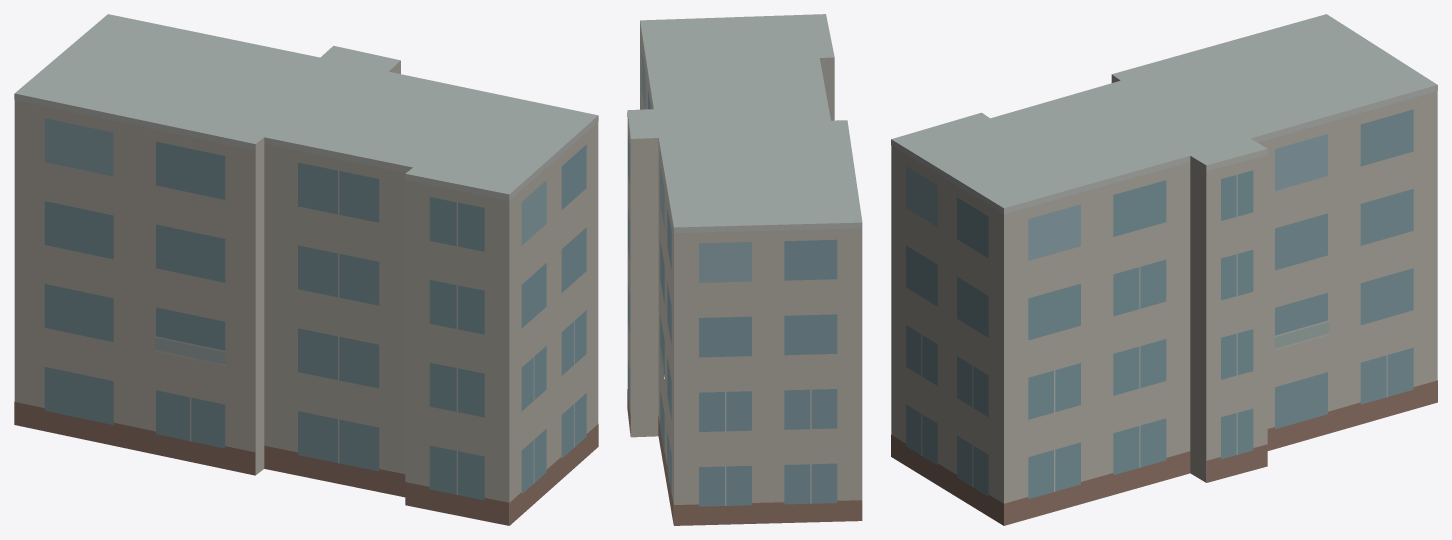
The model's file is survey-upis-32739296.glb.
3 views of the same model, side by side, from view 1: azimuth 30°, elevation 25°; view 2: azimuth 150°, elevation 25°; view 3: azimuth 270°, elevation 25° (orthographic). The views are drawn at different scales.
Visible parts, largest first — view 1: survey-upis-32739296.tmp; view 2: survey-upis-32739296.tmp; view 3: survey-upis-32739296.tmp.
Part boxes in pixels (box(x1,y1,x2,y2)): survey-upis-32739296.tmp: box(14, 14, 598, 525); survey-upis-32739296.tmp: box(627, 14, 862, 525); survey-upis-32739296.tmp: box(891, 14, 1437, 525).
Bounding box in the file's own units: 16.8 × 12.8 × 19.98.
